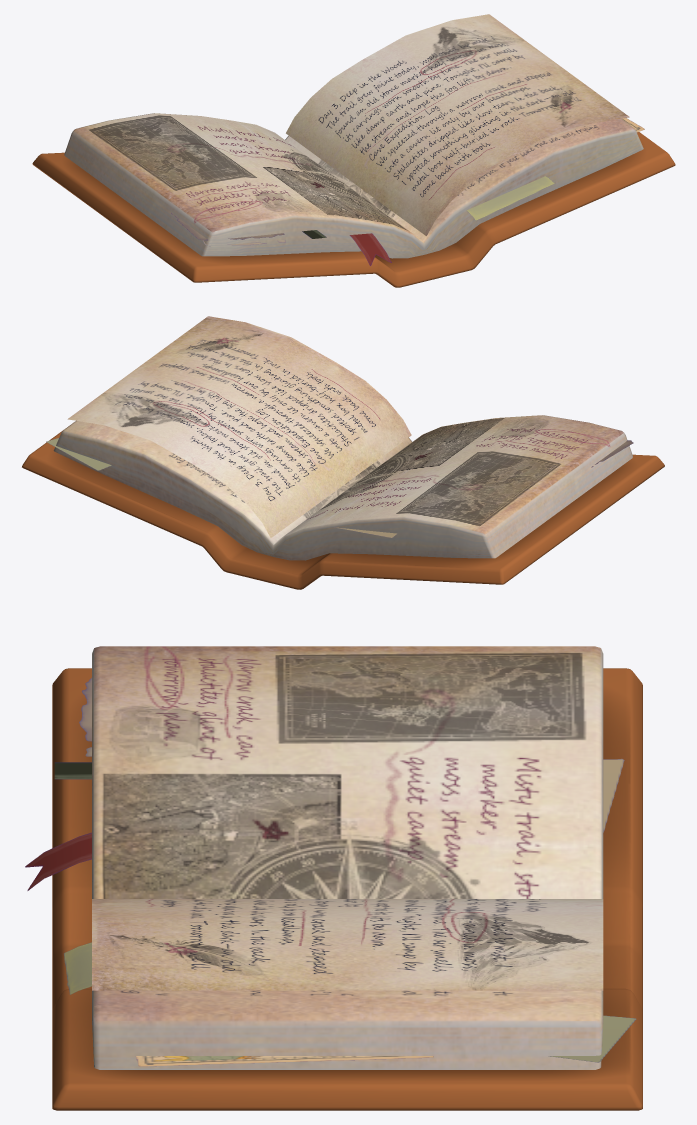
File: diary 1.fbx
The picture shows the model from 3 angles, top to bottom: view 1: azimuth 30°, elevation 25°; view 2: azimuth 150°, elevation 25°; view 3: azimuth 270°, elevation 25°; orthographic projection. The views are drawn at different scales.
Visible parts, largest first — view 1: op2 (×2), paper, book2_low, op1; view 2: op2, paper, book2_low, op1; view 3: op2 (×2), book2_low, paper, op1.
Boxes of the visible parts, x1,y1,x2,y2 form: op2 (×2): (64, 113, 643, 265); paper: (286, 14, 629, 235); book2_low: (32, 132, 675, 287); op1: (171, 118, 644, 240); op2: (53, 415, 632, 560); paper: (67, 316, 411, 537); book2_low: (22, 422, 664, 589); op1: (46, 438, 633, 537); op2 (×2): (25, 646, 603, 1069); book2_low: (52, 668, 642, 1110); paper: (92, 899, 603, 990); op1: (54, 678, 636, 1066).
Bounding box in the file's own units: 2160 × 1391 × 445.
